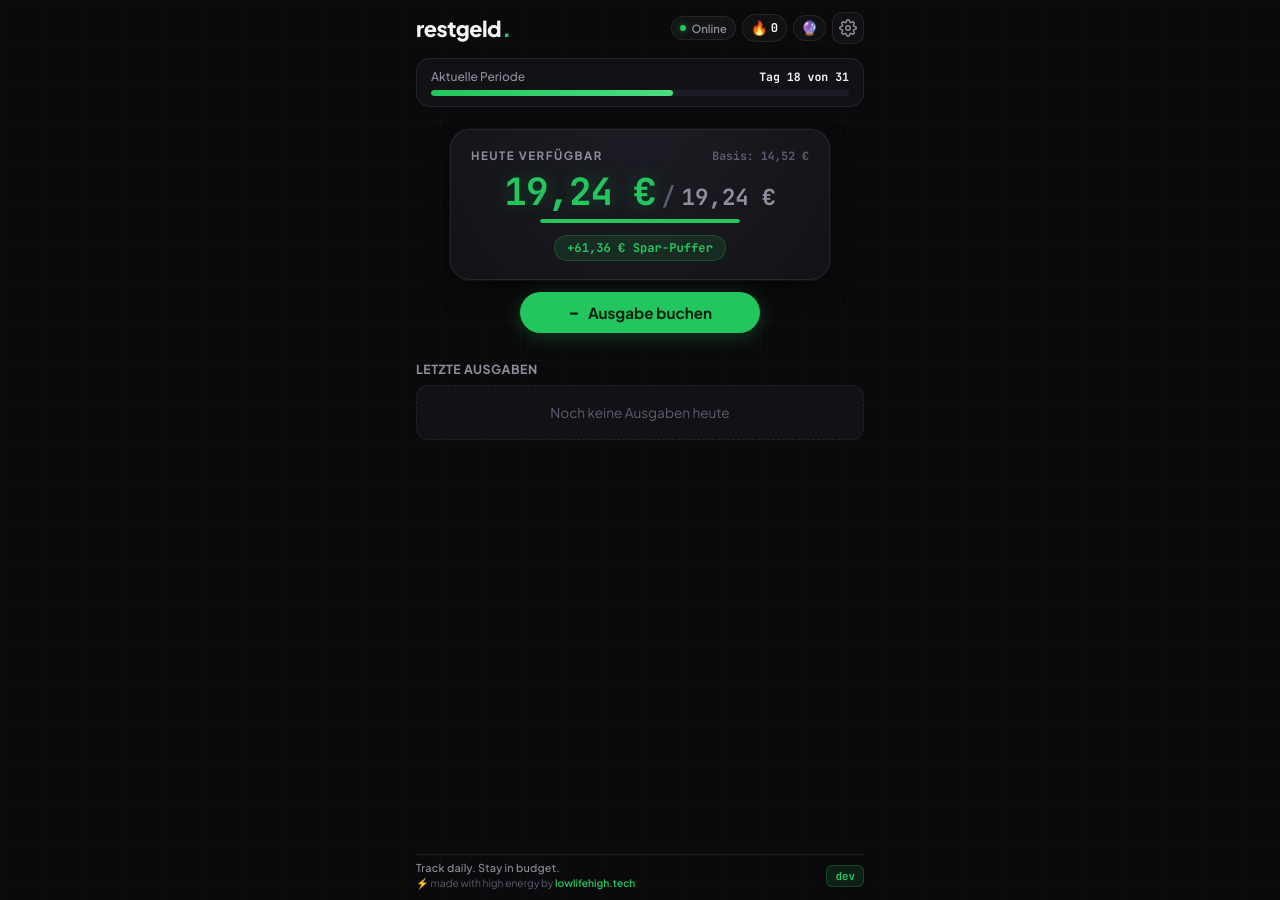
Test: App › oeffnet numpad bei klick auf ausgabe-button
Click the button with class "add-btn" at {"x": 640, "y": 312}, box [520,292,760,333]
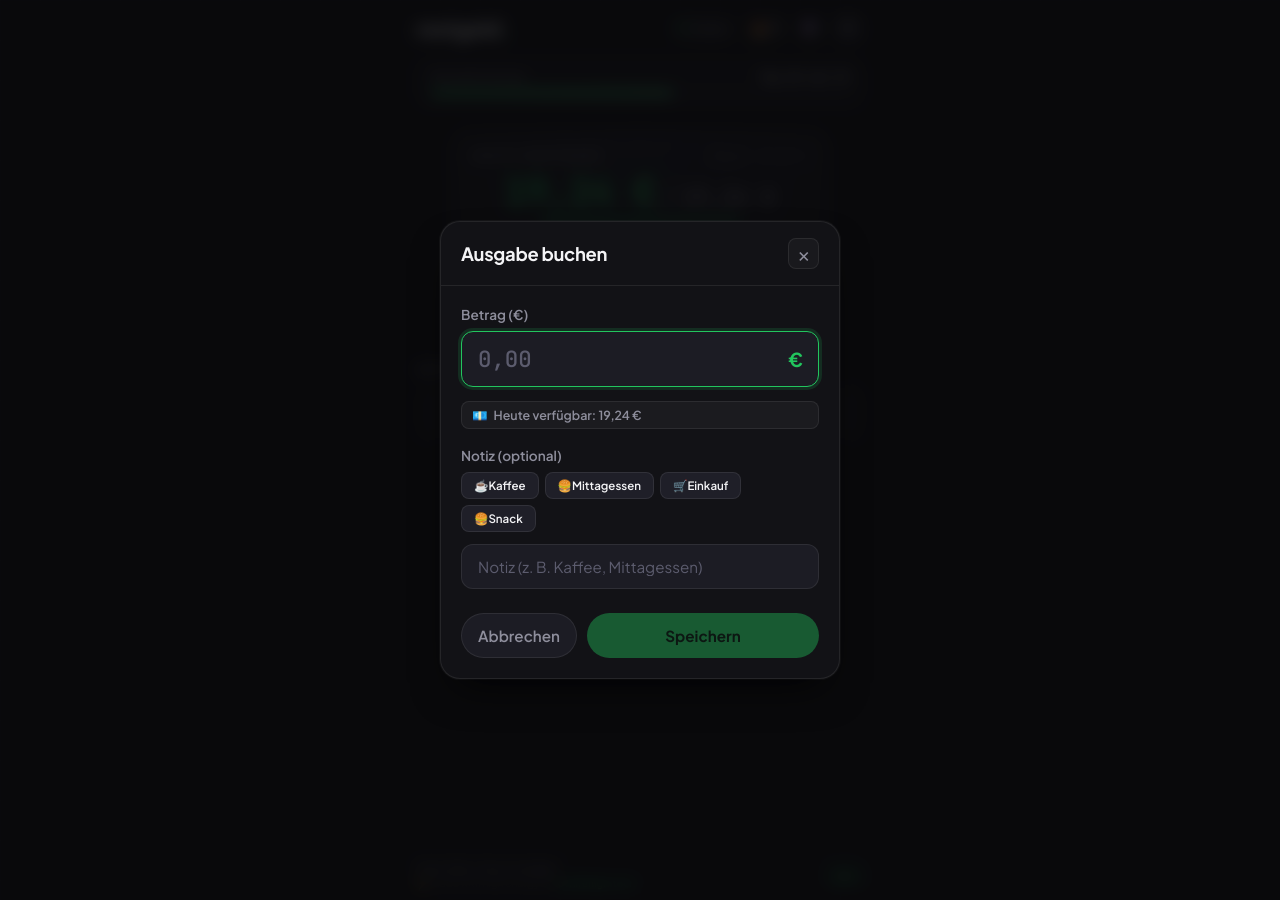
expect the element with class "modal-overlay" is shown: met
